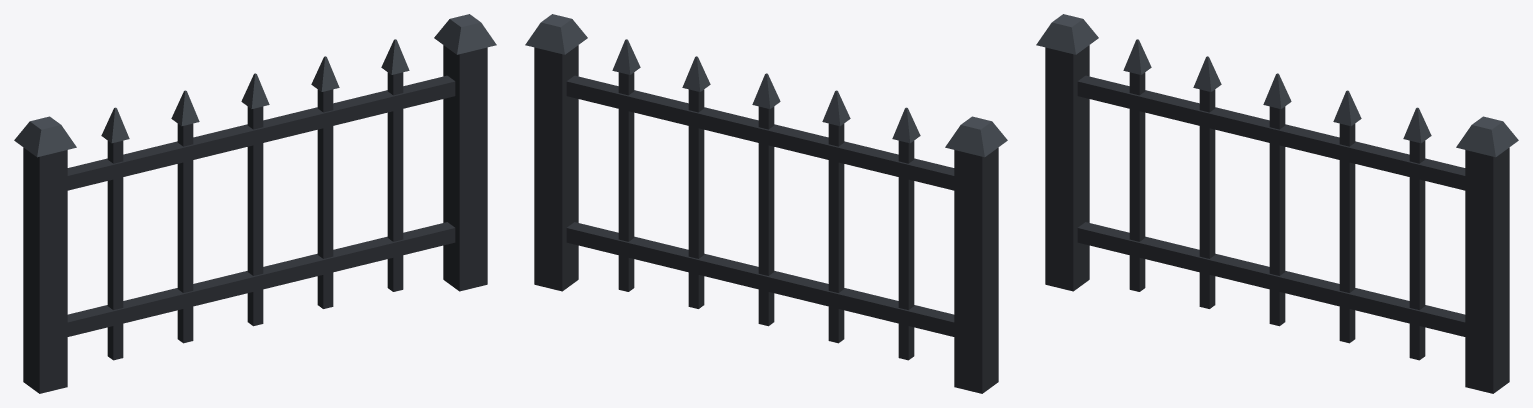
The model's file is iron_fence.glb.
3 views of the same model, side by side, from view 1: azimuth 30°, elevation 25°; view 2: azimuth 150°, elevation 25°; view 3: azimuth 330°, elevation 25° (orthographic).
Parts seen in each view (by area): view 1: iron_fence; view 2: iron_fence; view 3: iron_fence.
Boxes of the visible parts, left/top/right/bottom form: iron_fence: left=14, top=14, right=496, bottom=393; iron_fence: left=525, top=14, right=1007, bottom=393; iron_fence: left=1036, top=14, right=1518, bottom=393.
Bounding box in the file's own units: 2.3 × 1.25 × 0.2.
1 material, 1 textured.
